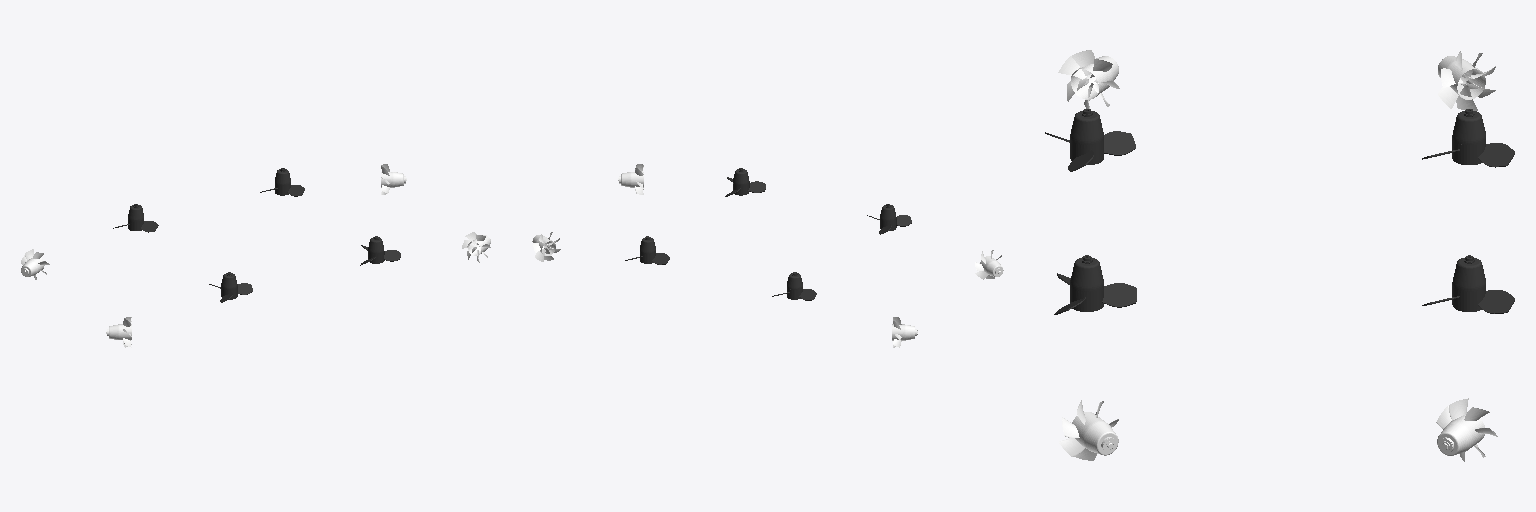
The robot description file, URDF, robot "floating_body_robot":
<?xml version="1.0" encoding="utf-8"?>
<!-- This URDF was automatically created by SolidWorks to URDF Exporter! Originally created by [author] ([email redacted]) 
     Commit Version: 1.5.1-0-g916b5db  Build Version: 1.5.7152.31018
     For more information, please see http://wiki.ros.org/sw_urdf_exporter -->
<robot
  name="floating_body_robot">
  <link
    name="floating_body">
    <inertial>
      <origin
        xyz="0.162269896425097 -0.913550914913996 0.492788959673433"
        rpy="0 0 0" />
      <mass
        value="110.615392516506" />
      <inertia
        ixx="4.86007264327987"
        ixy="-0.00202732296957763"
        ixz="-0.290738055135692"
        iyy="11.3366983871735"
        iyz="-0.0242427696641162"
        izz="14.0183001434337" />
    </inertial>
    <visual>
      <origin
        xyz="0 0 0"
        rpy="0 0 0" />
      <geometry>
        <mesh
          filename="package://floating_body_robot/meshes/floating_body.STL" />
      </geometry>
      <material
        name="">
        <color
          rgba="0.792156862745098 0.819607843137255 0.933333333333333 1" />
      </material>
    </visual>
    <collision>
      <origin
        xyz="0 0 0"
        rpy="0 0 0" />
      <geometry>
        <mesh
          filename="package://floating_body_robot/meshes/floating_body.STL" />
      </geometry>
    </collision>
  </link>
  <link
    name="right_back_ud">
    <inertial>
      <origin
        xyz="-0.01559909123975 -0.265026485547763 0.0925002736177307"
        rpy="0 0 0" />
      <mass
        value="110.615392516506" />
      <inertia
        ixx="14.0183001434337"
        ixy="0.119094731721884"
        ixz="-0.266332073662125"
        iyy="10.6260863599125"
        iyz="2.02420424029519"
        izz="5.57068467054079" />
    </inertial>
    <visual>
      <origin
        xyz="0 0 0"
        rpy="0 0 0" />
      <geometry>
        <mesh
          filename="package://floating_body_robot/meshes/right_back_ud.STL" />
      </geometry>
      <material
        name="">
        <color
          rgba="0.270588235294118 0.270588235294118 0.270588235294118 1" />
      </material>
    </visual>
    <collision>
      <origin
        xyz="0 0 0"
        rpy="0 0 0" />
      <geometry>
        <mesh
          filename="package://floating_body_robot/meshes/right_back_ud.STL" />
      </geometry>
    </collision>
  </link>
  <joint
    name="right_back_ud_joint"
    type="continuous">
    <origin
      xyz="-0.0127269631104085 -1.13303084067912 0.508388050913183"
      rpy="0.337303836546883 -1.5707963267949 0" />
    <parent
      link="floating_body" />
    <child
      link="right_back_ud" />
    <axis
      xyz="1 0 0" />
  </joint>
  <link
    name="left_back_ud">
    <inertial>
      <origin
        xyz="-0.01559909123975 -0.167043665708292 0.226631246248178"
        rpy="0 0 0" />
      <mass
        value="110.615392516506" />
      <inertia
        ixx="14.0183001434337"
        ixy="0.291421459173344"
        ixz="0.0137790318364976"
        iyy="4.86829110320707"
        iyz="0.230574187832195"
        izz="11.3284799272463" />
    </inertial>
    <visual>
      <origin
        xyz="0 0 0"
        rpy="0 0 0" />
      <geometry>
        <mesh
          filename="package://floating_body_robot/meshes/left_back_ud.STL" />
      </geometry>
      <material
        name="">
        <color
          rgba="0.270588235294118 0.270588235294118 0.270588235294118 1" />
      </material>
    </visual>
    <collision>
      <origin
        xyz="0 0 0"
        rpy="0 0 0" />
      <geometry>
        <mesh
          filename="package://floating_body_robot/meshes/left_back_ud.STL" />
      </geometry>
    </collision>
  </link>
  <joint
    name="left_back_ud_joint"
    type="continuous">
    <origin
      xyz="-0.0128101832847083 -0.693069002462942 0.508388050913183"
      rpy="1.53485218788834 -1.5707963267949 0" />
    <parent
      link="floating_body" />
    <child
      link="left_back_ud" />
    <axis
      xyz="1 0 0" />
  </joint>
  <link
    name="left_front_ud">
    <inertial>
      <origin
        xyz="-0.0155990912397497 0.23257807772421 0.212309492514357"
        rpy="0 0 0" />
      <mass
        value="110.615392516506" />
      <inertia
        ixx="14.0183001434337"
        ixy="0.291421459173344"
        ixz="0.0137790318364976"
        iyy="4.86829110320707"
        iyz="0.230574187832195"
        izz="11.3284799272463" />
    </inertial>
    <visual>
      <origin
        xyz="0 0 0"
        rpy="0 0 0" />
      <geometry>
        <mesh
          filename="package://floating_body_robot/meshes/left_front_ud.STL" />
      </geometry>
      <material
        name="">
        <color
          rgba="0.270588235294118 0.270588235294118 0.270588235294118 1" />
      </material>
    </visual>
    <collision>
      <origin
        xyz="0 0 0"
        rpy="0 0 0" />
      <geometry>
        <mesh
          filename="package://floating_body_robot/meshes/left_front_ud.STL" />
      </geometry>
    </collision>
  </link>
  <joint
    name="left_front_ud_joint"
    type="continuous">
    <origin
      xyz="0.38706810833078 -0.693020538834871 0.508388050913183"
      rpy="1.53485218788834 -1.5707963267949 0" />
    <parent
      link="floating_body" />
    <child
      link="left_front_ud" />
    <axis
      xyz="1 0 0" />
  </joint>
  <link
    name="right_front_ud">
    <inertial>
      <origin
        xyz="-0.0155990912397503 -0.0945601198979059 0.299687393052061"
        rpy="0 0 0" />
      <mass
        value="110.615392516506" />
      <inertia
        ixx="14.0183001434337"
        ixy="-0.267748546441764"
        ixz="0.115875124437449"
        iyy="6.30165945493594"
        iyz="2.69415104085255"
        izz="9.89511157551739" />
    </inertial>
    <visual>
      <origin
        xyz="0 0 0"
        rpy="0 0 0" />
      <geometry>
        <mesh
          filename="package://floating_body_robot/meshes/right_front_ud.STL" />
      </geometry>
      <material
        name="">
        <color
          rgba="0.270588235294118 0.270588235294118 0.270588235294118 1" />
      </material>
    </visual>
    <collision>
      <origin
        xyz="0 0 0"
        rpy="0 0 0" />
      <geometry>
        <mesh
          filename="package://floating_body_robot/meshes/right_front_ud.STL" />
      </geometry>
    </collision>
  </link>
  <joint
    name="right_front_ud_joint"
    type="continuous">
    <origin
      xyz="0.387102116229031 -1.13310642672703 0.508388050913183"
      rpy="2.06242586922736 -1.5707963267949 0" />
    <parent
      link="floating_body" />
    <child
      link="right_front_ud" />
    <axis
      xyz="1 0 0" />
  </joint>
  <link
    name="left_front_fb">
    <inertial>
      <origin
        xyz="-0.279310191213277 -0.437453968879025 -0.0390370556397751"
        rpy="0 0 0" />
      <mass
        value="110.615392516506" />
      <inertia
        ixx="6.4809847924466"
        ixy="-2.75444315758052"
        ixz="-0.584098919386964"
        iyy="9.82208276294297"
        iyz="-0.688273395274284"
        izz="13.9120036184975" />
    </inertial>
    <visual>
      <origin
        xyz="0 0 0"
        rpy="0 0 0" />
      <geometry>
        <mesh
          filename="package://floating_body_robot/meshes/left_front_fb.STL" />
      </geometry>
      <material
        name="">
        <color
          rgba="1 1 1 1" />
      </material>
    </visual>
    <collision>
      <origin
        xyz="0 0 0"
        rpy="0 0 0" />
      <geometry>
        <mesh
          filename="package://floating_body_robot/meshes/left_front_fb.STL" />
      </geometry>
    </collision>
  </link>
  <joint
    name="left_front_fb_joint"
    type="continuous">
    <origin
      xyz="0.623623267145709 -0.673083819009289 0.477534693761356"
      rpy="-0.12374073057921 0 -0.5235987755983" />
    <parent
      link="floating_body" />
    <child
      link="left_front_fb" />
    <axis
      xyz="1 0 0" />
  </joint>
  <link
    name="right_front_fb">
    <inertial>
      <origin
        xyz="-0.316245604883395 0.32331080609348 -0.295895931520665"
        rpy="0 0 0" />
      <mass
        value="110.615392516506" />
      <inertia
        ixx="6.47747336605989"
        ixy="1.81610509056504"
        ixz="-2.15191260626279"
        iyy="11.952601035355"
        iyz="2.15146501631304"
        izz="11.7849967724721" />
    </inertial>
    <visual>
      <origin
        xyz="0 0 0"
        rpy="0 0 0" />
      <geometry>
        <mesh
          filename="package://floating_body_robot/meshes/right_front_fb.STL" />
      </geometry>
      <material
        name="">
        <color
          rgba="1 1 1 1" />
      </material>
    </visual>
    <collision>
      <origin
        xyz="0 0 0"
        rpy="0 0 0" />
      <geometry>
        <mesh
          filename="package://floating_body_robot/meshes/right_front_fb.STL" />
      </geometry>
    </collision>
  </link>
  <joint
    name="right_front_fb_joint"
    type="continuous">
    <origin
      xyz="0.655150954525234 -1.13475473986496 0.477534693761359"
      rpy="0.775965204396531 0 0.52359877559829" />
    <parent
      link="floating_body" />
    <child
      link="right_front_fb" />
    <axis
      xyz="1 0 0" />
  </joint>
  <link
    name="left_back_fb">
    <inertial>
      <origin
        xyz="-0.283689111324848 0.272526656003463 0.31219355427269"
        rpy="0 0 0" />
      <mass
        value="110.615392516506" />
      <inertia
        ixx="6.47747336605995"
        ixy="1.72781994729062"
        ixz="2.22342164123537"
        iyy="12.1257646937801"
        iyz="-2.13770743940592"
        izz="11.611833114047" />
    </inertial>
    <visual>
      <origin
        xyz="0 0 0"
        rpy="0 0 0" />
      <geometry>
        <mesh
          filename="package://floating_body_robot/meshes/left_back_fb.STL" />
      </geometry>
      <material
        name="">
        <color
          rgba="1 1 1 1" />
      </material>
    </visual>
    <collision>
      <origin
        xyz="0 0 0"
        rpy="0 0 0" />
      <geometry>
        <mesh
          filename="package://floating_body_robot/meshes/left_back_fb.STL" />
      </geometry>
    </collision>
  </link>
  <joint
    name="left_back_fb_joint"
    type="continuous">
    <origin
      xyz="-0.290476624400439 -0.696749160543825 0.477534693761357"
      rpy="-0.816315568271687 0 -2.61799387799149" />
    <parent
      link="floating_body" />
    <child
      link="left_back_fb" />
    <axis
      xyz="1 0 0" />
  </joint>
  <link
    name="right_back_fb">
    <inertial>
      <origin
        xyz="-0.367866763739677 -0.407624510204562 0.0694105643533898"
        rpy="0 0 0" />
      <mass
        value="110.615392516506" />
      <inertia
        ixx="6.48098479244656"
        ixy="-2.74966865128766"
        ixz="0.606177337168678"
        iyy="9.83338882324928"
        iyz="0.720994682007765"
        izz="13.9006975581912" />
    </inertial>
    <visual>
      <origin
        xyz="0 0 0"
        rpy="0 0 0" />
      <geometry>
        <mesh
          filename="package://floating_body_robot/meshes/right_back_fb.STL" />
      </geometry>
      <material
        name="">
        <color
          rgba="1 1 1 1" />
      </material>
    </visual>
    <collision>
      <origin
        xyz="0 0 0"
        rpy="0 0 0" />
      <geometry>
        <mesh
          filename="package://floating_body_robot/meshes/right_back_fb.STL" />
      </geometry>
    </collision>
  </link>
  <joint
    name="right_back_fb_joint"
    type="continuous">
    <origin
      xyz="-0.36291729066453 -1.08746827895806 0.477534693761358"
      rpy="0.13176320546132 0 2.6179938779915" />
    <parent
      link="floating_body" />
    <child
      link="right_back_fb" />
    <axis
      xyz="1 0 0" />
  </joint>
</robot>

--- Render facts (derived) ---
3 views of the same robot in one strip: view 1: azimuth 30°, elevation 25°; view 2: azimuth 150°, elevation 25°; view 3: azimuth 270°, elevation 25° (orthographic).
Robot: floating_body_robot — 9 links, 8 joints (8 continuous); root link floating_body; default pose: all joints at 0.
Visible links, largest first — view 1: right_front_ud, right_back_ud, left_front_ud, left_back_ud; view 2: right_front_ud, right_back_ud, left_front_ud, left_back_ud; view 3: right_front_ud, right_back_ud, left_front_ud, left_back_ud, right_front_fb, left_front_fb, right_back_fb, left_back_fb.
Boxes of the visible links, x1,y1,x2,y2 form: right_front_ud: [360, 236, 400, 265]; right_back_ud: [209, 272, 252, 302]; left_front_ud: [260, 168, 304, 196]; left_back_ud: [113, 204, 158, 232]; right_front_ud: [725, 168, 765, 196]; right_back_ud: [867, 204, 911, 234]; left_front_ud: [625, 236, 669, 264]; left_back_ud: [772, 272, 816, 300]; right_front_ud: [1054, 255, 1136, 314]; right_back_ud: [1045, 109, 1135, 171]; left_front_ud: [1422, 255, 1514, 313]; left_back_ud: [1422, 109, 1514, 167]; right_front_fb: [1059, 400, 1118, 460]; left_front_fb: [1436, 398, 1497, 461]; right_back_fb: [1058, 50, 1119, 108]; left_back_fb: [1438, 51, 1495, 110].
Bounding box of the posed robot: 1.04 × 0.5423 × 0.1287 m (x, y, z).
Meshes: 9 distinct files referenced, 8 mesh visuals loaded (8 binary STL); not drawn: 1 (reference not matched to a file when rendering).